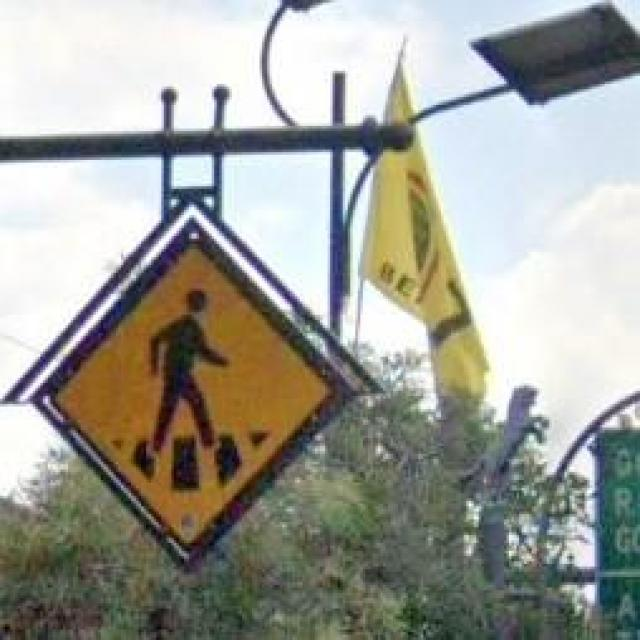traffic sign: (66, 252, 323, 538)
